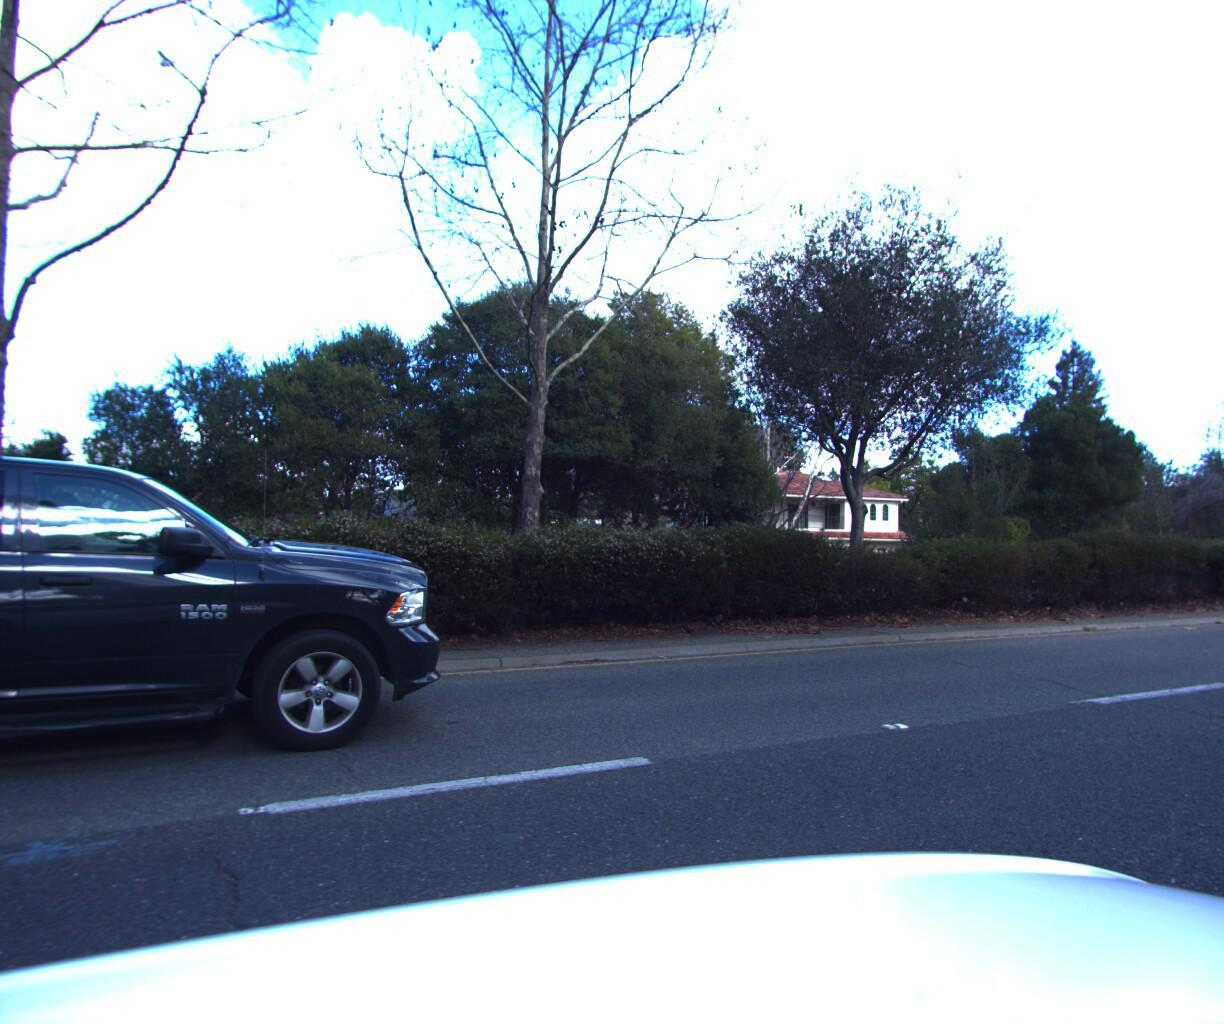car: (0, 388, 471, 895)
